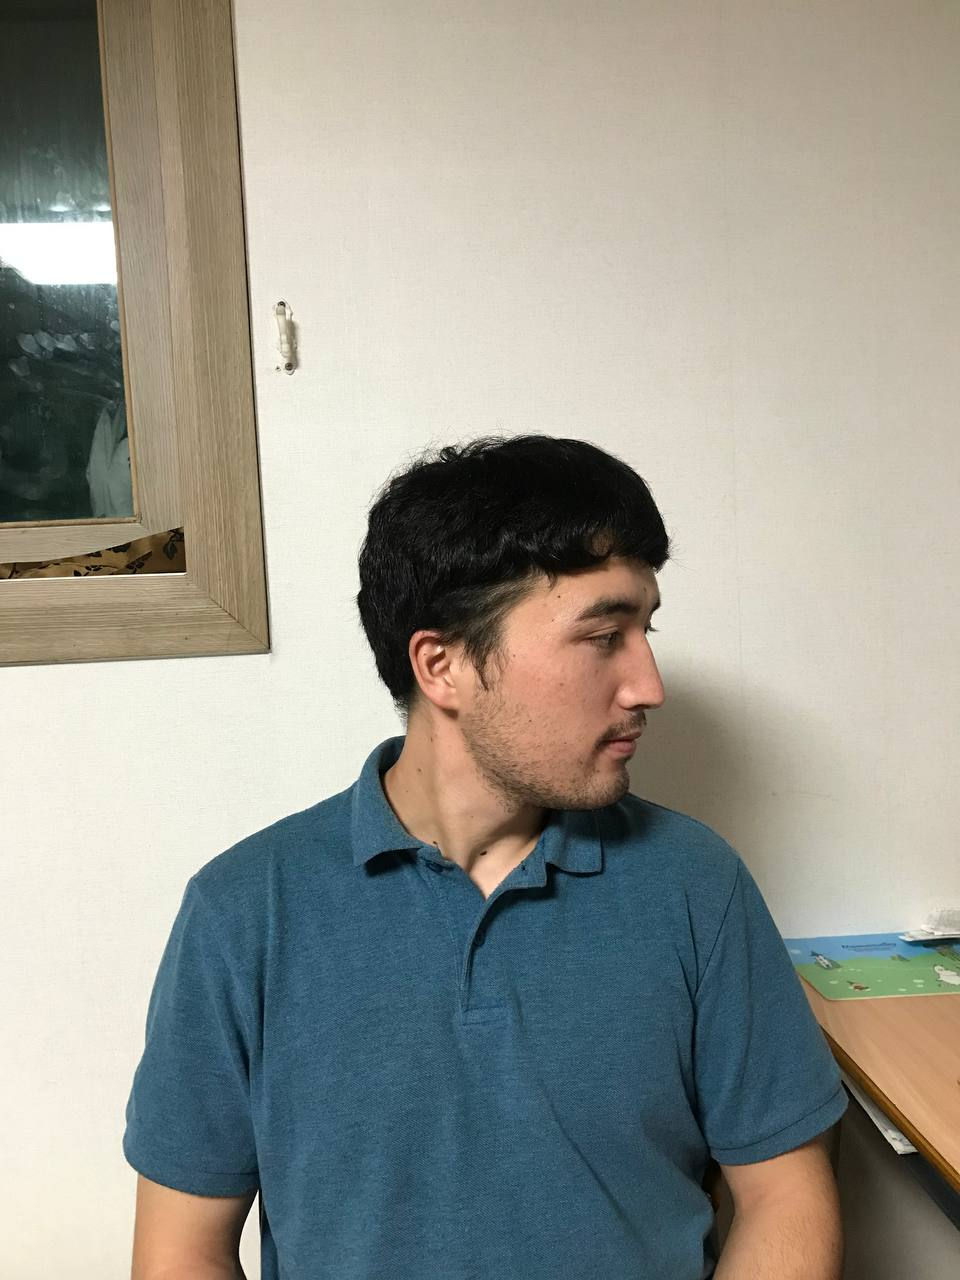NoMask: (372, 650, 671, 812)
